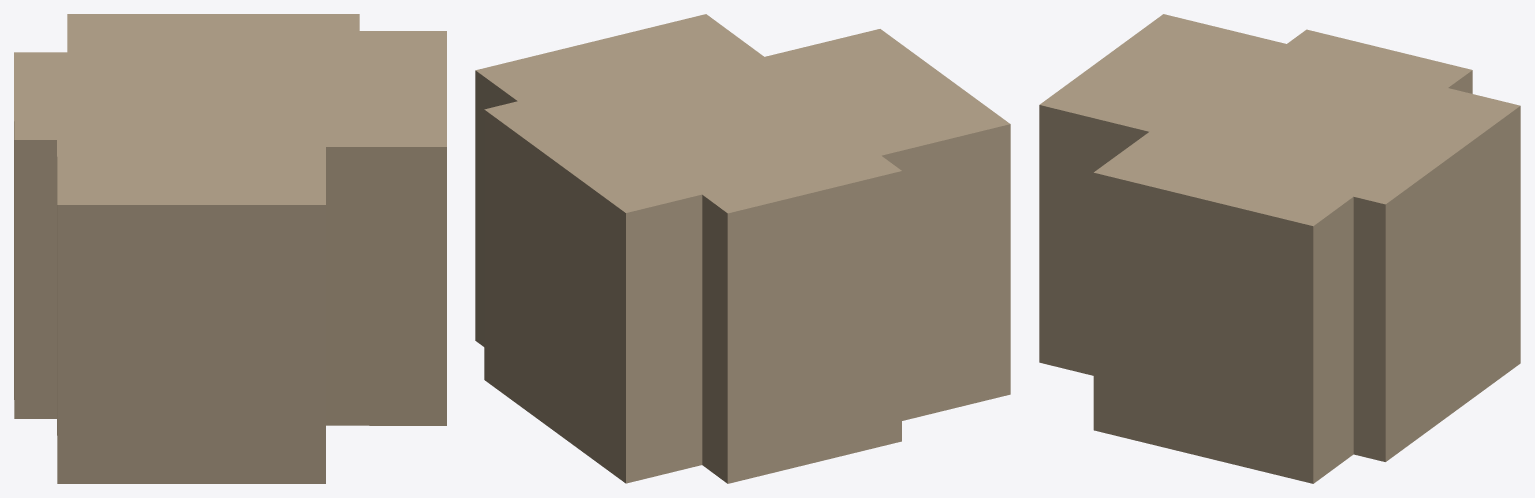
Rendered from bld_101245894.dae.
The picture shows the model from 3 angles, left to right: view 1: azimuth 30°, elevation 25°; view 2: azimuth 150°, elevation 25°; view 3: azimuth 270°, elevation 25°; orthographic projection. The views are drawn at different scales.
Visible parts, largest first — view 1: bld_101245894; view 2: bld_101245894; view 3: bld_101245894.
Part boxes in pixels (x1,y1,x2,y2): bld_101245894: (14, 14, 446, 483); bld_101245894: (475, 14, 1010, 483); bld_101245894: (1039, 14, 1520, 483).
Bounding box in the file's own units: 12.36 × 11.85 × 7.
